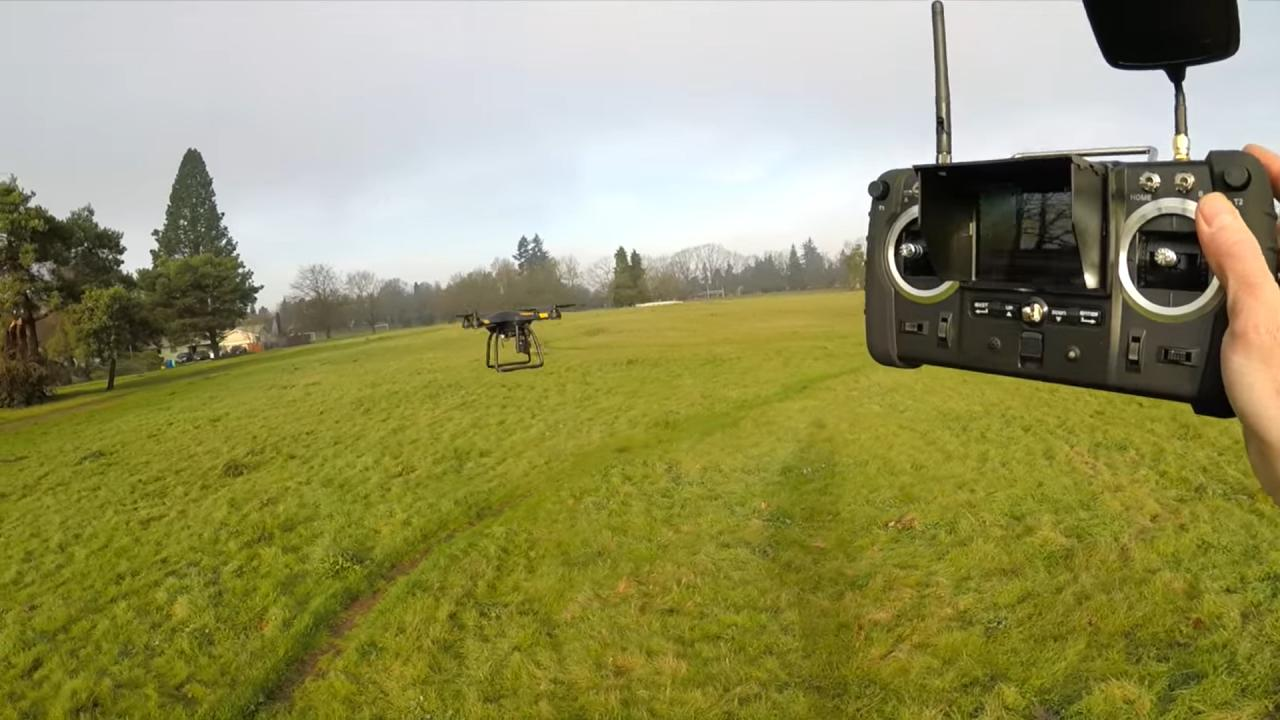Drone: (441, 298, 588, 378)
